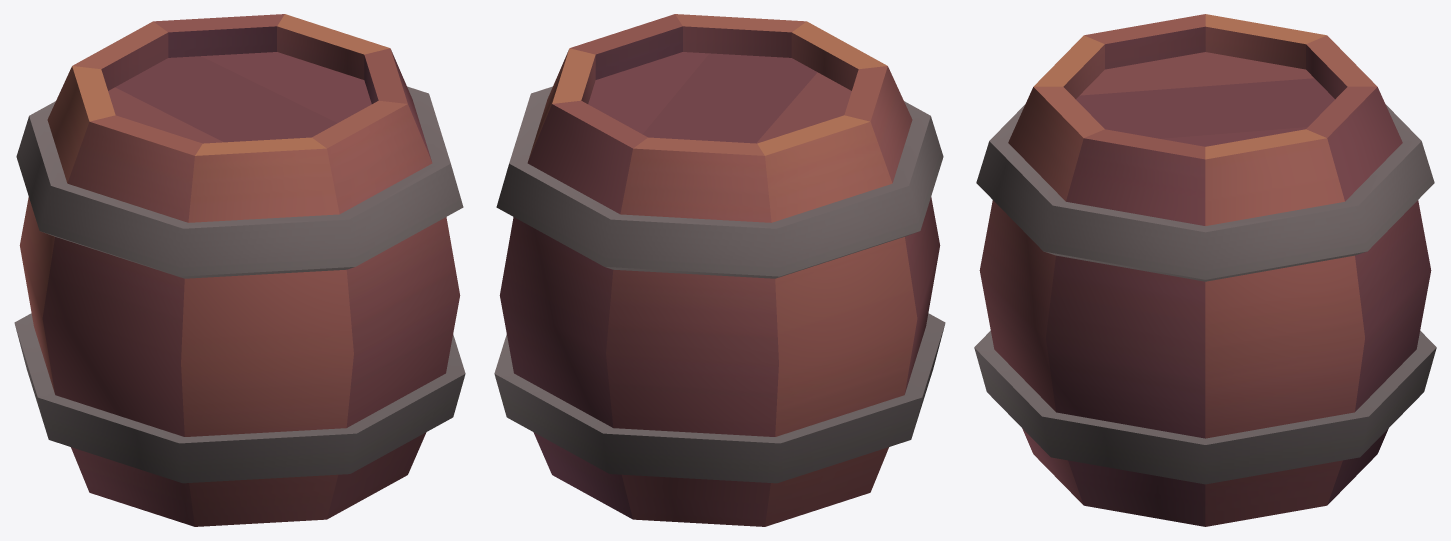
The model's file is Barrell.obj.
3 renders of one model, left to right at view 1: azimuth 30°, elevation 25°; view 2: azimuth 150°, elevation 25°; view 3: azimuth 270°, elevation 25°, orthographic.
Parts seen in each view (by area): view 1: {mesh}Barrell_Cylinder.042; view 2: {mesh}Barrell_Cylinder.042; view 3: {mesh}Barrell_Cylinder.042.
Boxes of the visible parts, bbox=[...] form: {mesh}Barrell_Cylinder.042: bbox=[14, 14, 465, 526]; {mesh}Barrell_Cylinder.042: bbox=[494, 14, 945, 526]; {mesh}Barrell_Cylinder.042: bbox=[974, 14, 1436, 526].
Size of the model in its own units: 48.16 by 42.21 by 48.16.
